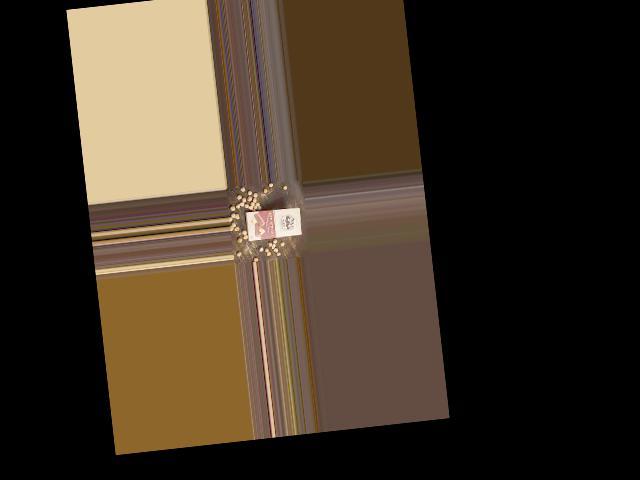chocolate: (243, 203, 304, 242)
